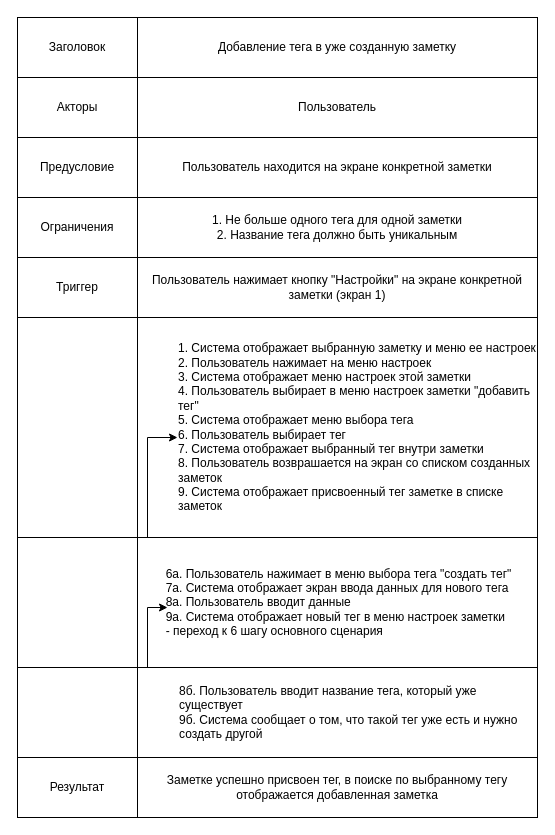
Image size: 555x835. Some labels were removed from this diagram. Here are the shapes that lost their labels. From the top down, the centre of each, then its label:
At [77,427]: "Основной сценарий".
At [77,602]: "Альтернативный сценарий".
At [77,712]: "Исключительный сценарий".
